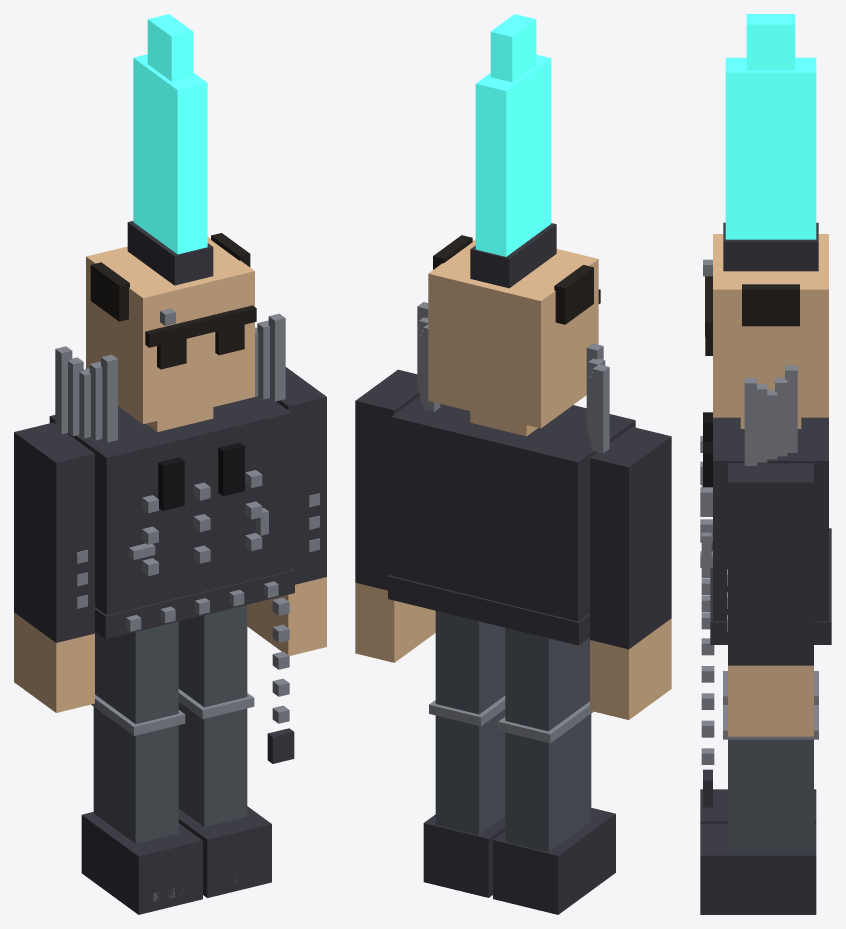
Rendered from archetypes__punk.glb.
3 views of the same model, side by side, from view 1: azimuth 30°, elevation 25°; view 2: azimuth 150°, elevation 25°; view 3: azimuth 270°, elevation 25° (orthographic).
Bounding box in the file's own units: 1.26 × 3.77 × 0.52.
